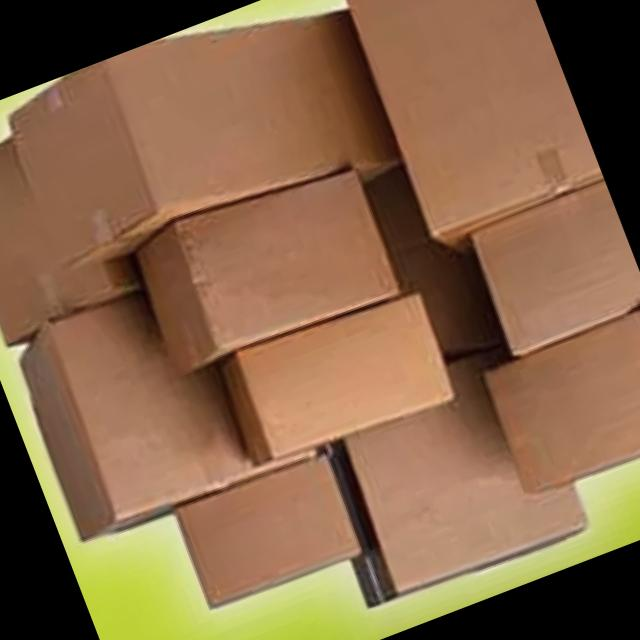Kardus: (0, 0, 640, 640), (1, 0, 399, 290), (306, 336, 584, 608), (6, 270, 260, 544), (124, 152, 408, 382), (344, 0, 603, 237), (477, 302, 640, 504), (172, 452, 366, 612), (0, 120, 138, 339), (469, 182, 640, 353)
